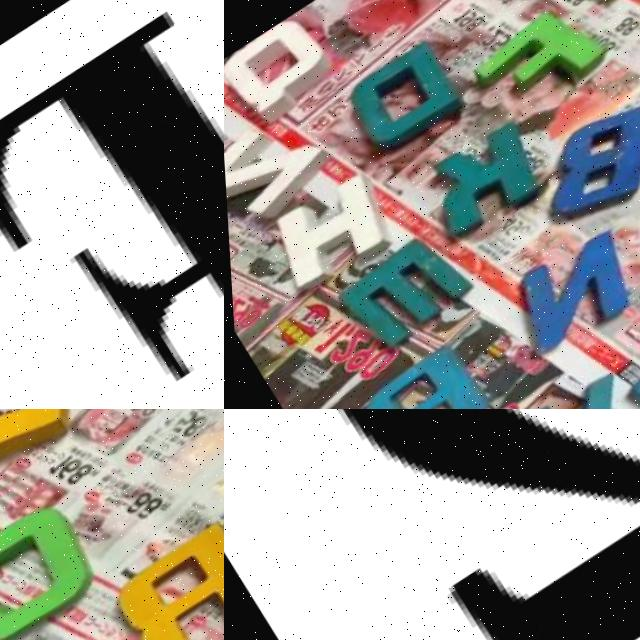2: (239, 409, 640, 640)
B: (516, 95, 640, 245)
C: (0, 498, 94, 640)
D: (324, 34, 472, 164)
E: (0, 16, 224, 386)
F: (458, 0, 608, 135)
H: (248, 162, 400, 303)
K: (411, 121, 548, 253)
L: (0, 409, 119, 506)
M: (320, 230, 469, 367)
N: (488, 228, 640, 369)
P: (347, 341, 484, 409)
Q: (224, 9, 333, 130)
R: (89, 516, 224, 640)
V: (506, 372, 636, 409)
Y: (507, 0, 640, 41)
Z: (224, 97, 338, 245)
